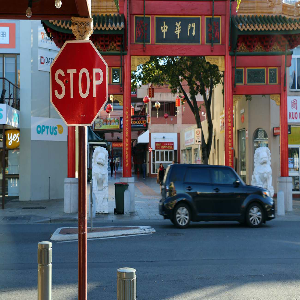STOP_SIGN: (49, 40, 108, 125)
